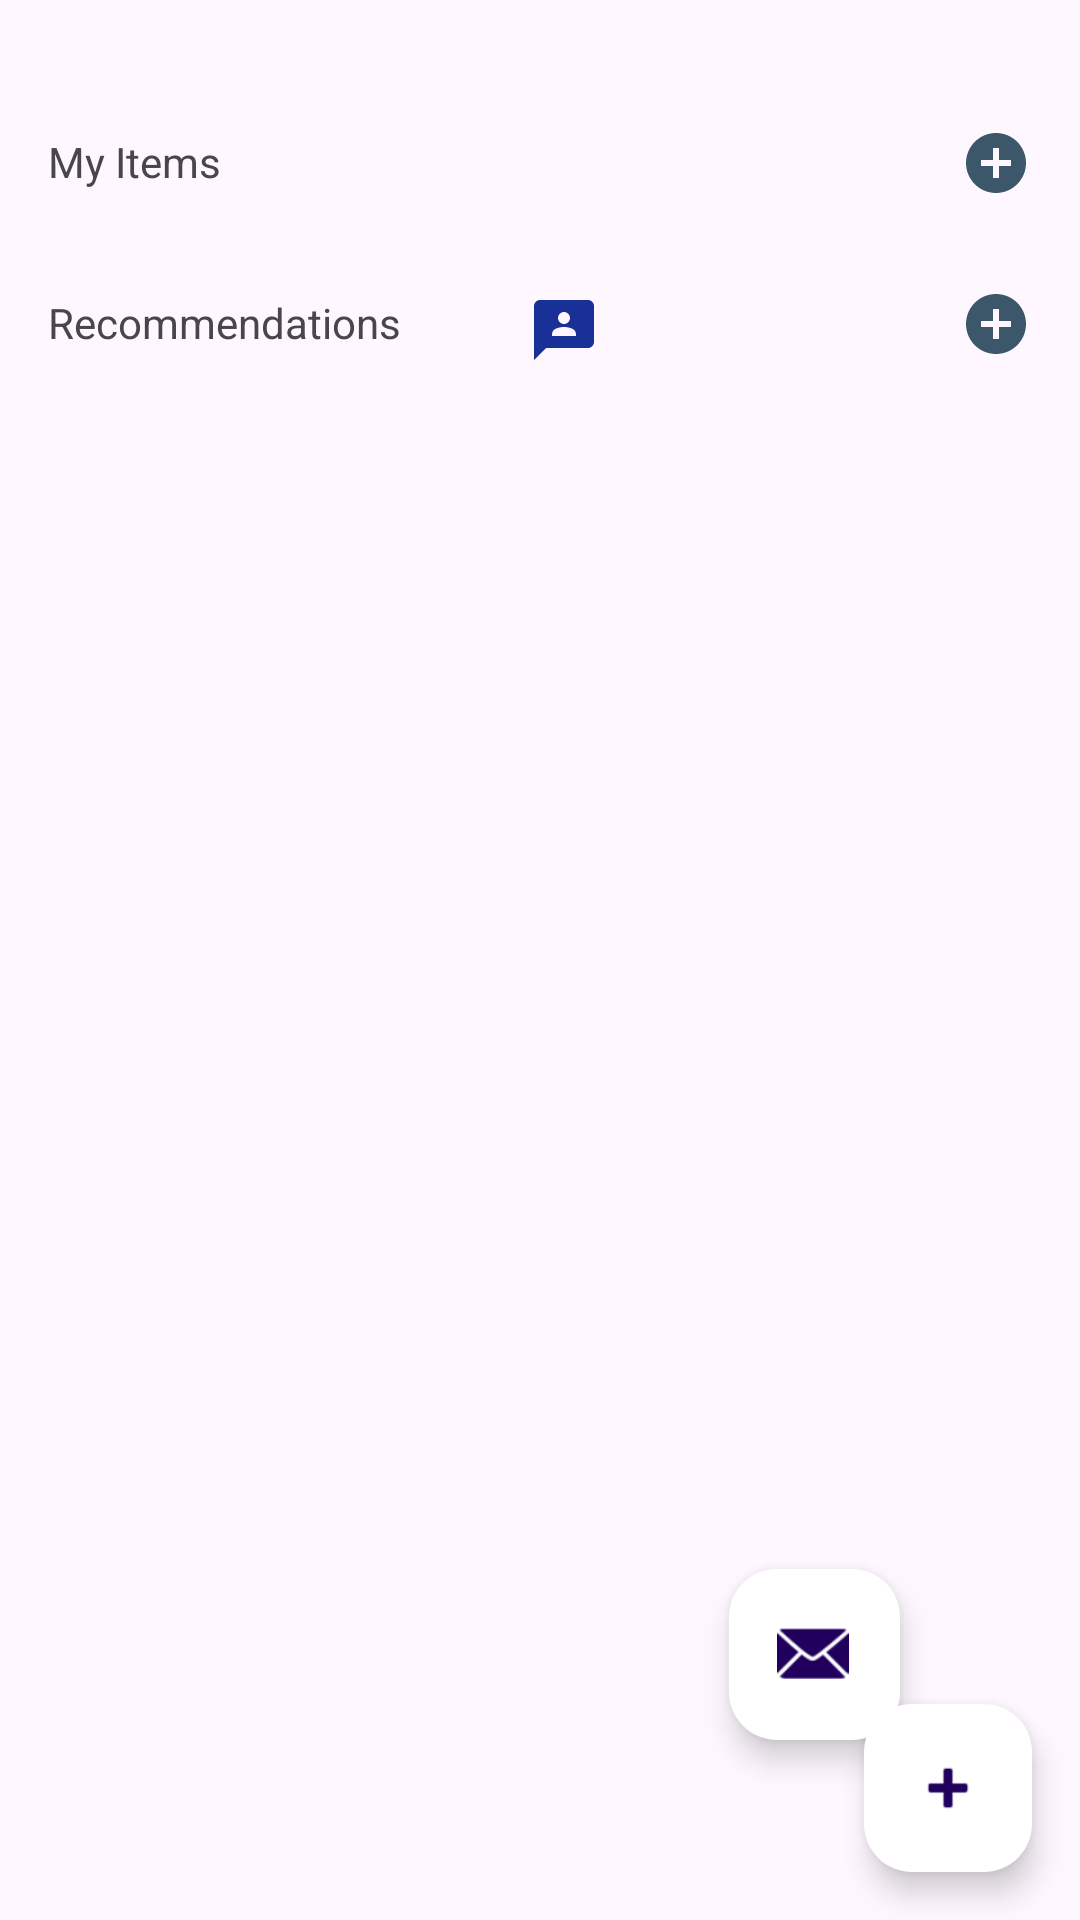

Screen size 1080px×1920px. Icon name, then its center in pixels as point (x, y):
add: point (948, 1788)
add circle: point (996, 163), point (996, 324)
email: point (814, 1654)
